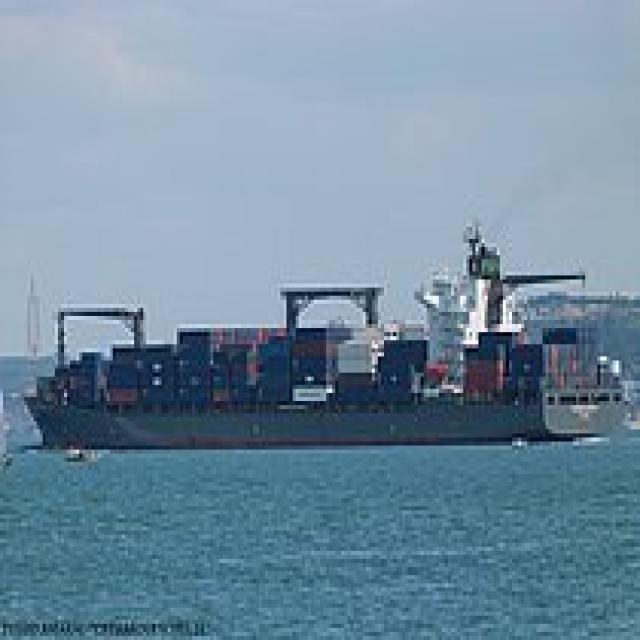Cargo: (18, 210, 625, 446)
